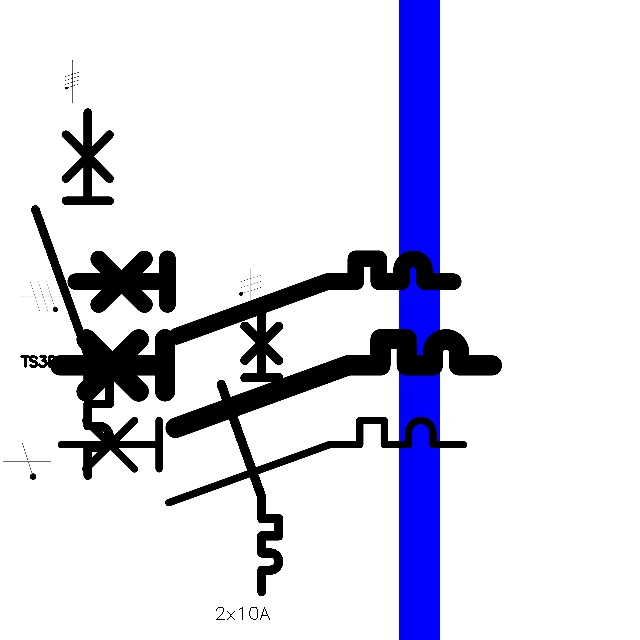interruptor_termomagnetico: (49, 328, 503, 439), (50, 410, 473, 513), (65, 249, 462, 346), (26, 103, 119, 485), (214, 301, 286, 598)
